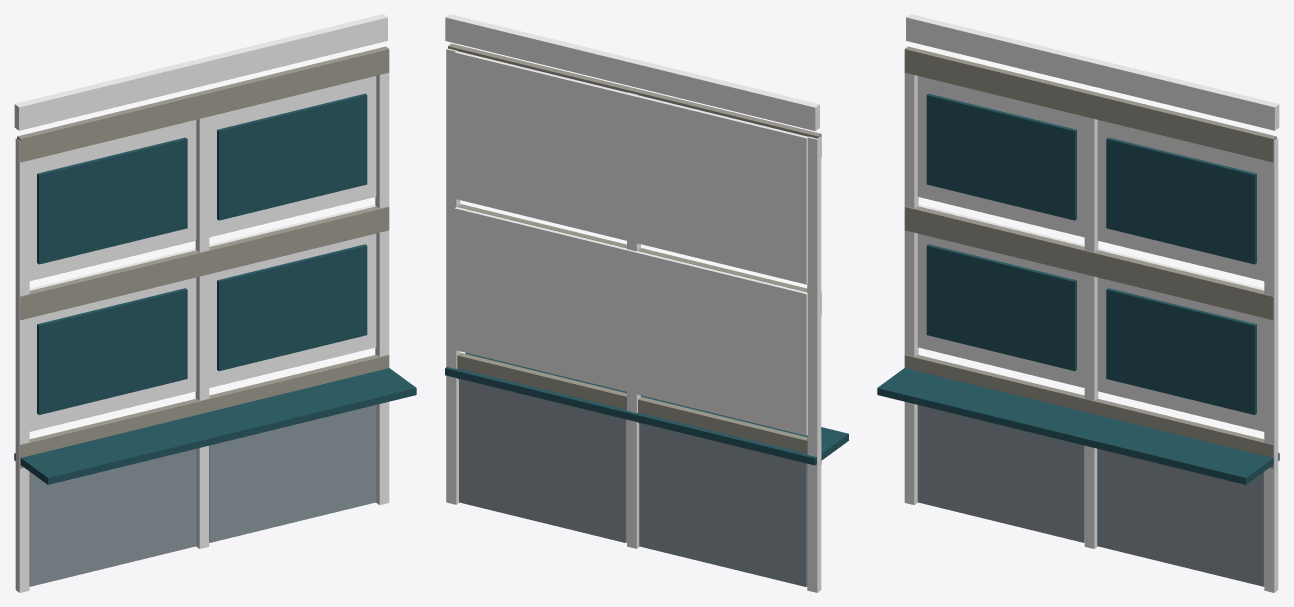
Rendered from malaysia-shoplot-facade.glb.
The picture shows the model from 3 angles, left to right: view 1: azimuth 30°, elevation 25°; view 2: azimuth 150°, elevation 25°; view 3: azimuth 330°, elevation 25°; orthographic projection.
Parts seen in each view (by area): view 1: Ground_Shutter, Ground_Shutter.001, Ribbon_Window.003, Ribbon_Window, Ribbon_Window.001, Ribbon_Window.002, Upper_Front_Wall.001, Modern_Awning, Upper_Front_Wall, Flat_Parapet, Facade_Band.002, Facade_Band.001 (+4 smaller); view 2: Upper_Front_Wall.001, Upper_Front_Wall, Ground_Shutter, Ground_Shutter.001, Flat_Parapet, Facade_Pier, Facade_Band, Modern_Awning, Facade_Pier.002, Facade_Band.002, Facade_Pier.001, Facade_Band.001; view 3: Ground_Shutter.001, Ground_Shutter, Ribbon_Window.001, Ribbon_Window.002, Ribbon_Window, Ribbon_Window.003, Upper_Front_Wall.001, Modern_Awning, Upper_Front_Wall, Flat_Parapet, Facade_Band.002, Facade_Band.001 (+4 smaller).
Part boxes in pixels (x1,y1,x2,y2): Ground_Shutter: (29,448,196,586); Ground_Shutter.001: (209,405,376,542); Ribbon_Window.003: (217,93,367,220); Ribbon_Window: (37,288,187,414); Ribbon_Window.001: (37,137,187,264); Ribbon_Window.002: (217,244,367,371); Upper_Front_Wall.001: (29,76,376,280); Modern_Awning: (14,368,416,484); Upper_Front_Wall: (29,204,376,431); Flat_Parapet: (14,14,387,130); Facade_Band.002: (17,46,389,162); Facade_Band.001: (20,206,389,319); Upper_Front_Wall.001: (454,51,807,284); Upper_Front_Wall: (454,207,807,435); Ground_Shutter: (639,422,807,586); Ground_Shutter.001: (459,378,626,542); Flat_Parapet: (445,14,819,130); Facade_Pier: (807,136,821,592); Facade_Band: (457,352,821,463); Modern_Awning: (445,352,848,465); Facade_Pier.002: (446,48,460,504); Facade_Band.002: (448,43,821,156); Facade_Pier.001: (627,92,640,548); Facade_Band.001: (457,204,821,315); Ground_Shutter.001: (1097,448,1264,586); Ground_Shutter: (917,405,1084,542); Ribbon_Window.001: (926,93,1076,220); Ribbon_Window.002: (1106,288,1256,414); Ribbon_Window: (926,244,1076,371); Ribbon_Window.003: (1106,137,1256,264); Upper_Front_Wall.001: (917,76,1264,280); Modern_Awning: (877,368,1279,484); Upper_Front_Wall: (917,204,1264,431); Flat_Parapet: (906,14,1279,130); Facade_Band.002: (904,46,1276,162); Facade_Band.001: (904,206,1273,319).
Bounding box in the file's own units: 8.22 × 10.3 × 1.3.
